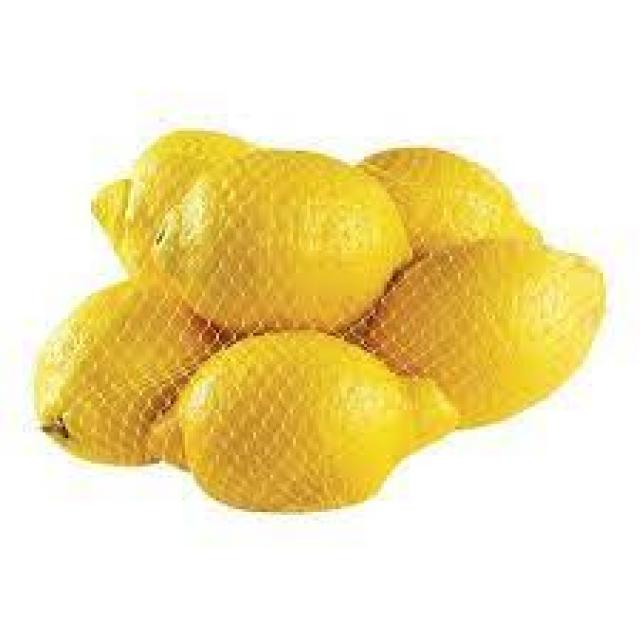lemon: (34, 126, 610, 513)
